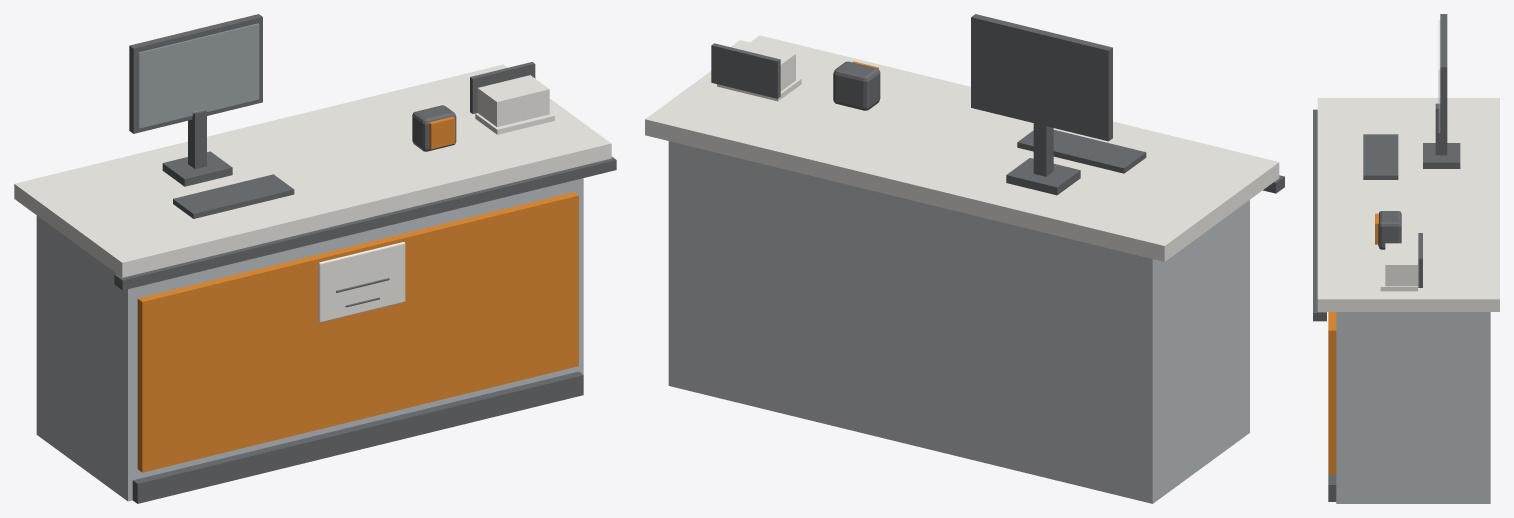
File: self-storage-facility-and-loading-bay-self-storage-fac-66224a41__34720.glb
3 views of the same model, side by side, from view 1: azimuth 30°, elevation 25°; view 2: azimuth 150°, elevation 25°; view 3: azimuth 270°, elevation 25° (orthographic). The views are drawn at different scales.
Visible parts, largest first — view 1: self-storage-facility-and-loading-bay-site-office-counter; view 2: self-storage-facility-and-loading-bay-site-office-counter; view 3: self-storage-facility-and-loading-bay-site-office-counter.
Part boxes in pixels (x1,y1,x2,y2): self-storage-facility-and-loading-bay-site-office-counter: [14, 14, 616, 503]; self-storage-facility-and-loading-bay-site-office-counter: [645, 14, 1284, 503]; self-storage-facility-and-loading-bay-site-office-counter: [1313, 14, 1499, 503].
Size of the model in its own units: 2.06 by 1.56 by 0.8.
